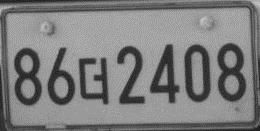0: (182, 42, 212, 102)
2: (115, 44, 147, 105)
4: (148, 42, 181, 106)
6: (46, 46, 75, 105)
8: (12, 46, 43, 106), (216, 42, 247, 101)
더: (77, 56, 109, 106)
